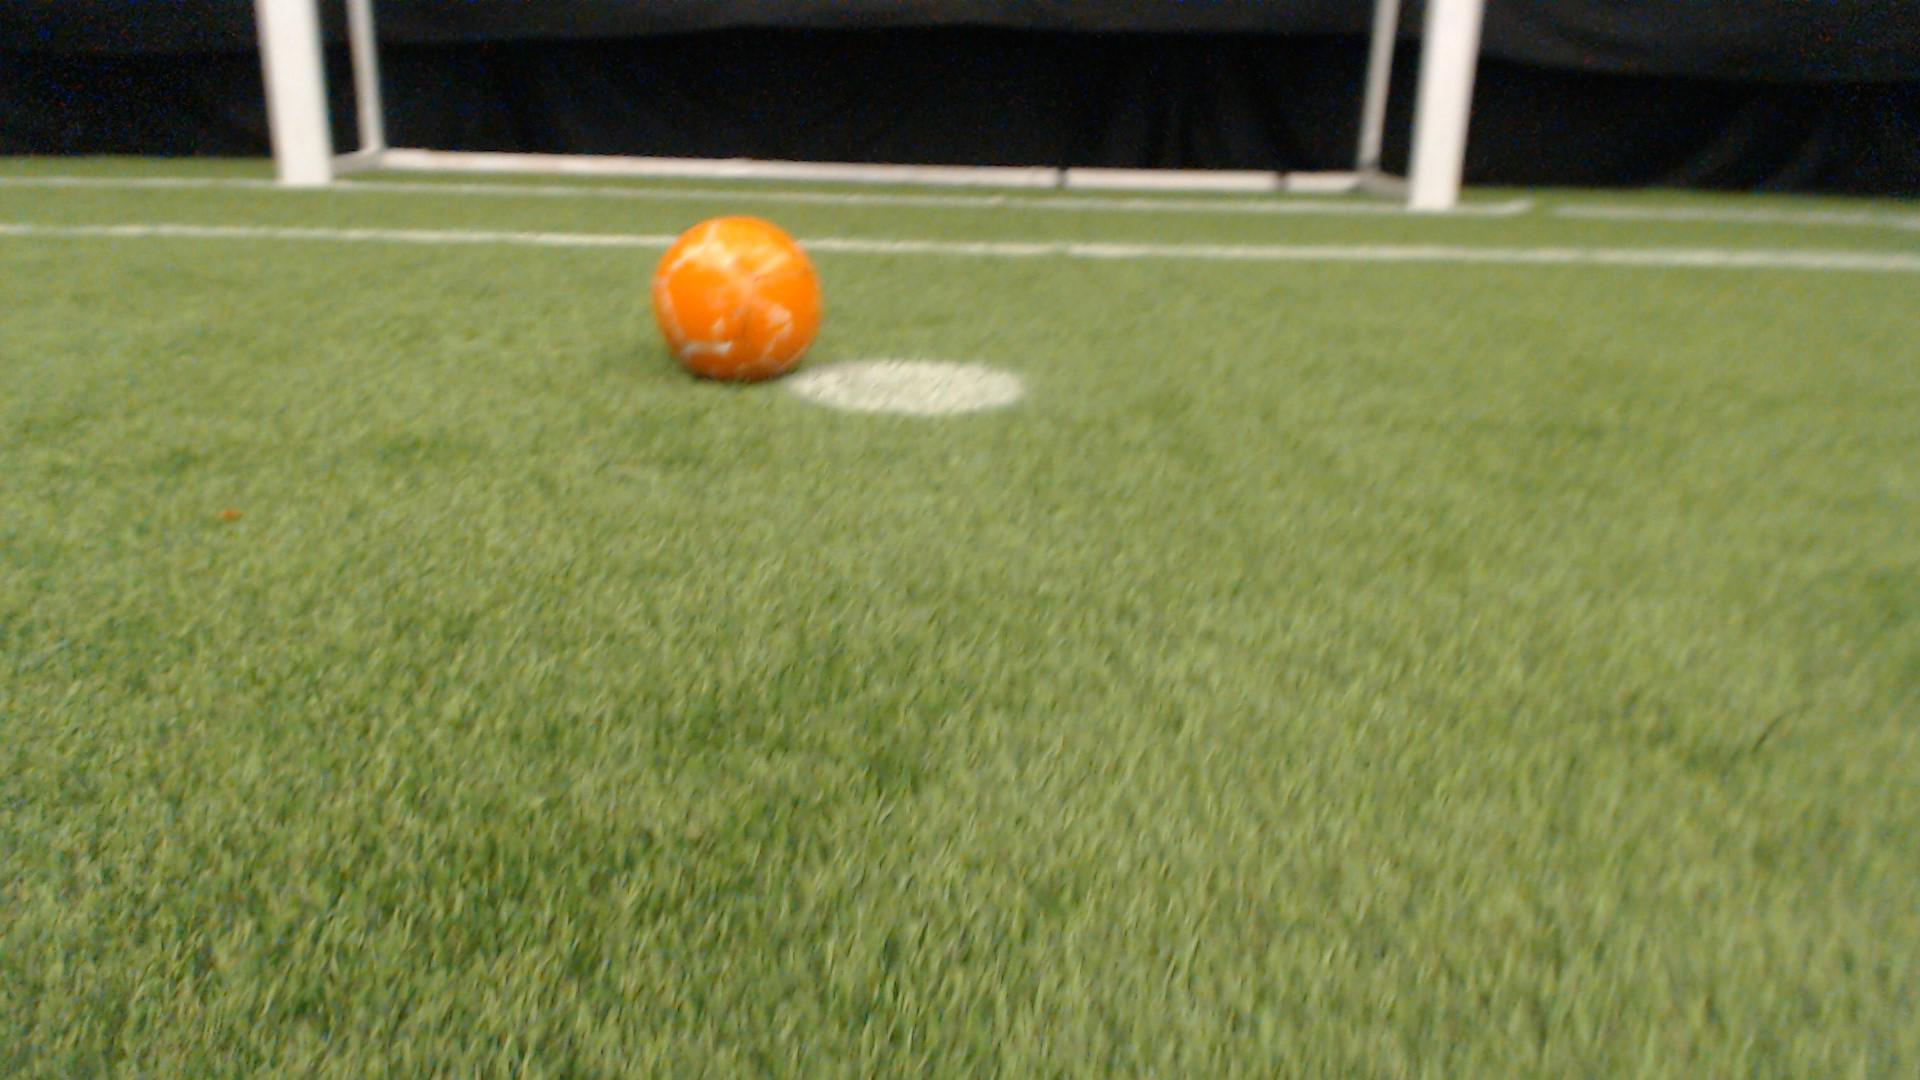bola: (637, 202, 839, 396)
